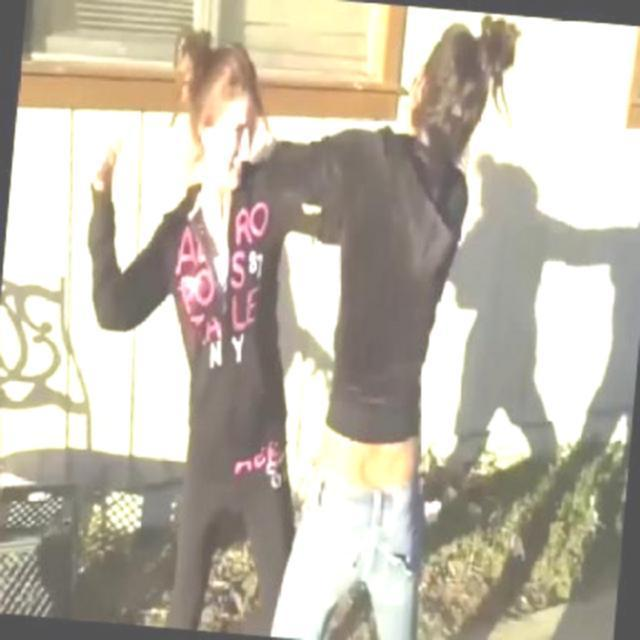fight: (53, 0, 526, 638)
